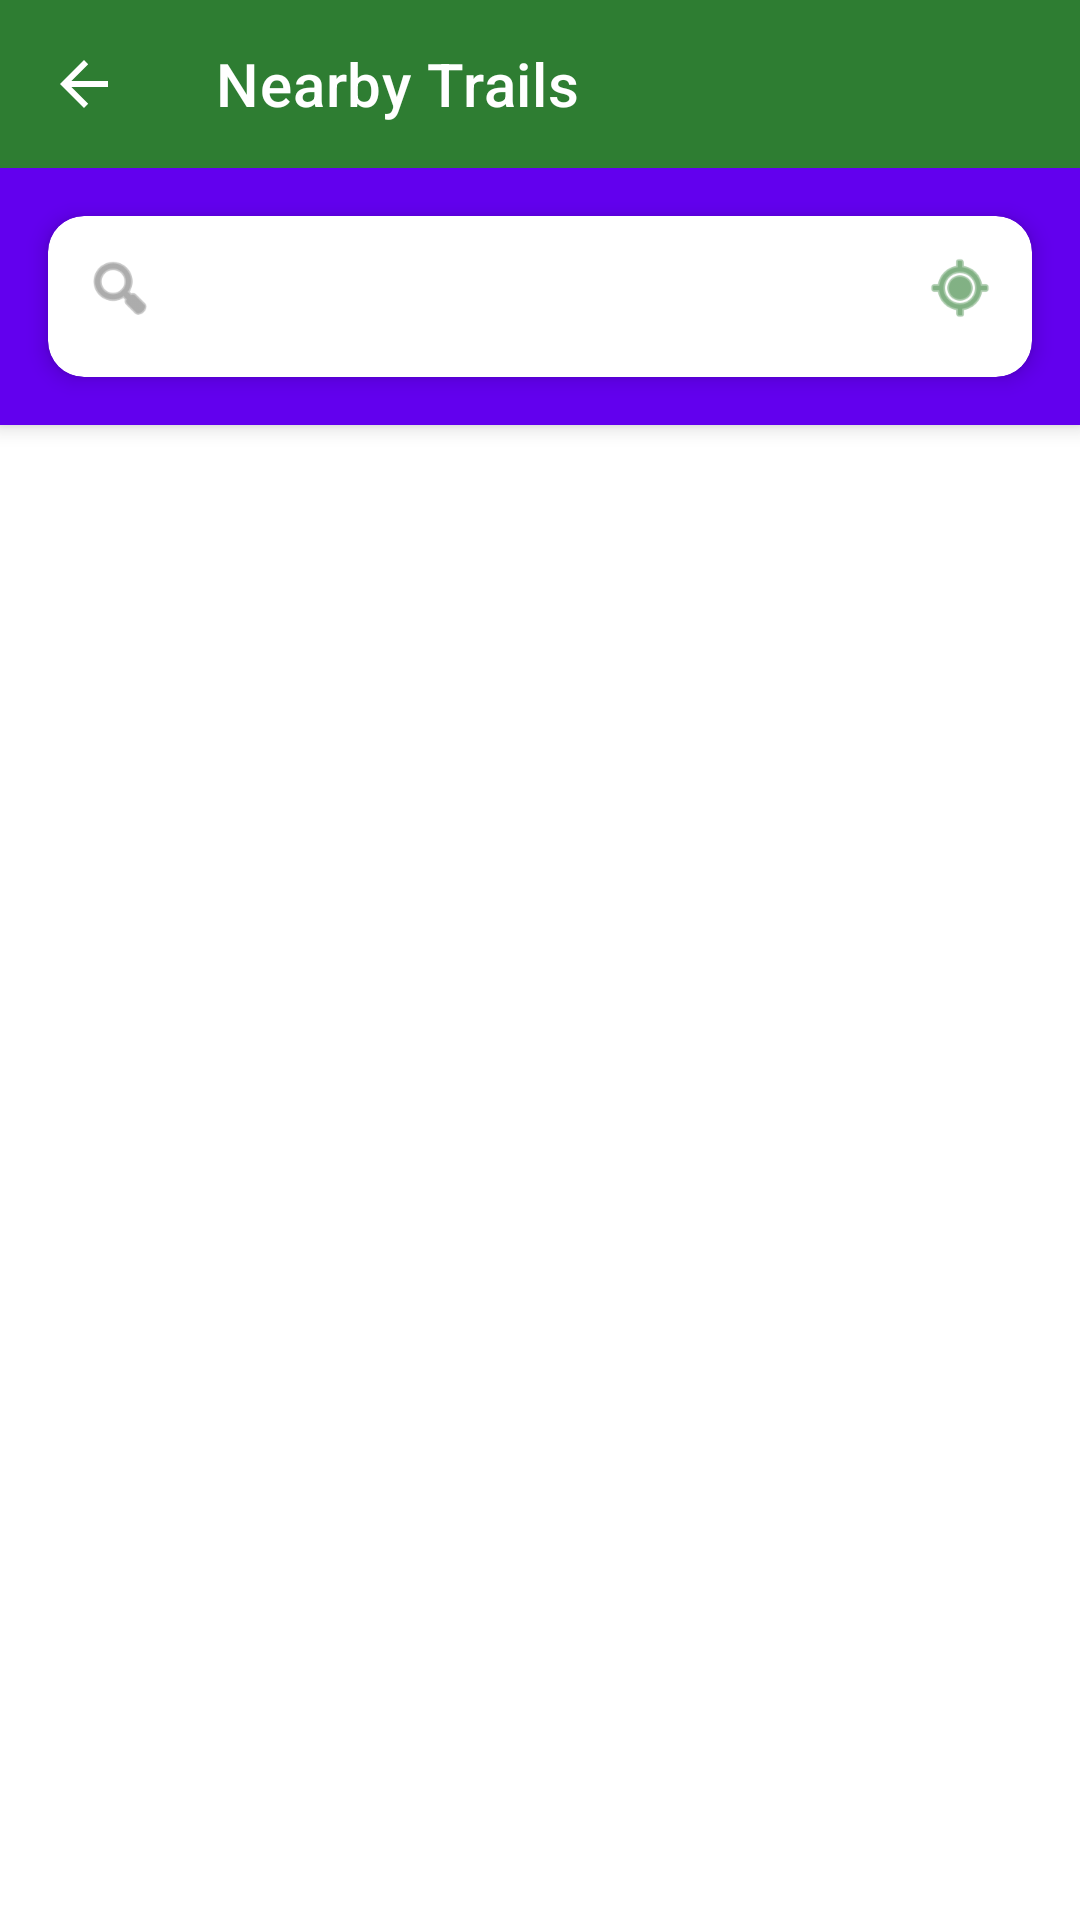

Icon bounding boxes for this 1080×1920 phone screenshot, format Rect(x1, y1, x2, y2):
Use my location: Rect(931, 259, 989, 317)
